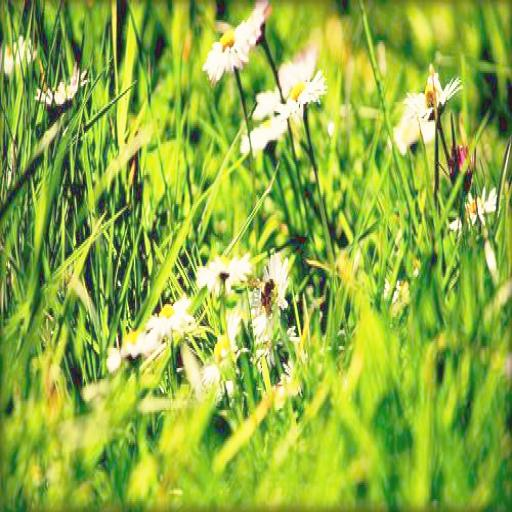daisy: (198, 4, 271, 78), (408, 70, 460, 118), (253, 253, 291, 310), (195, 251, 250, 290), (452, 184, 498, 224), (35, 71, 86, 106), (272, 78, 324, 111), (234, 118, 291, 146), (152, 299, 194, 333), (150, 300, 192, 334), (121, 326, 151, 361), (1, 40, 36, 69), (116, 330, 150, 355)
